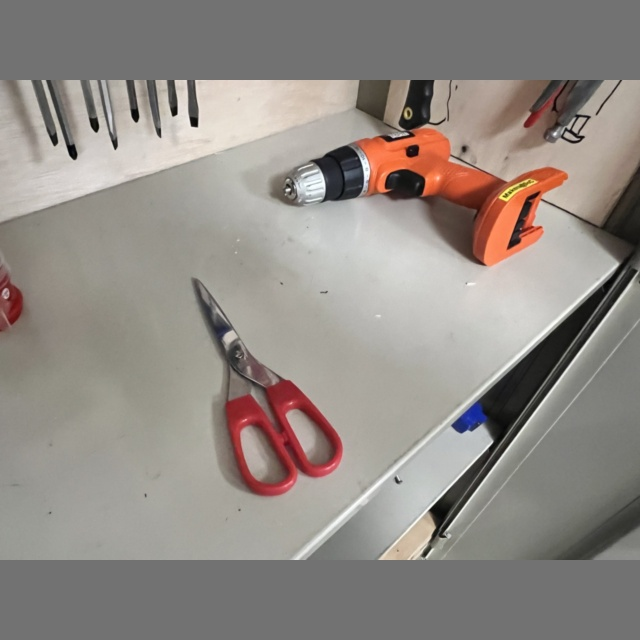drill: (281, 129, 567, 265)
scissor: (193, 278, 343, 496)
